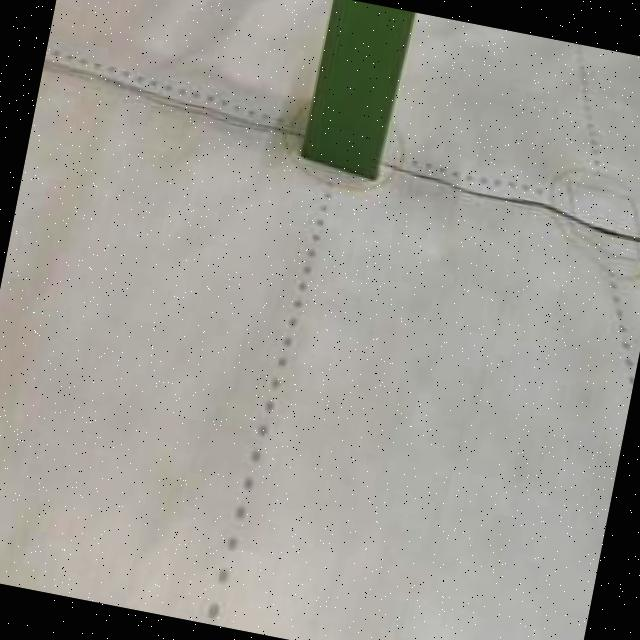greenbox: (286, 0, 419, 195)
